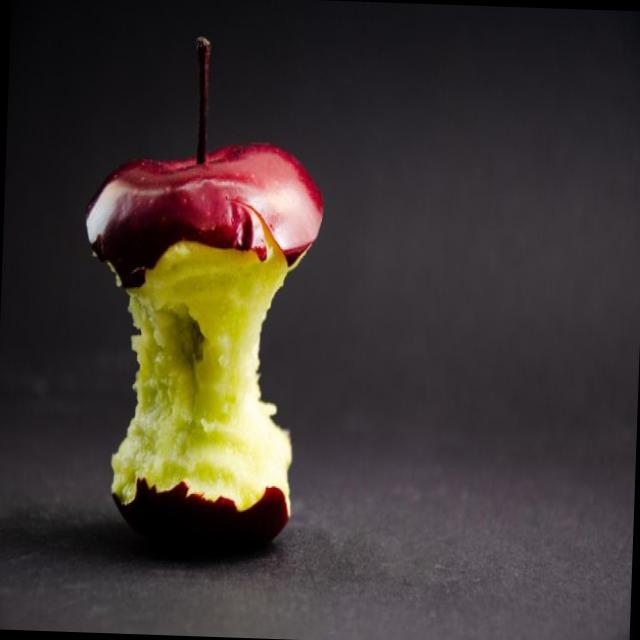apple_fruit: (74, 34, 333, 587)
